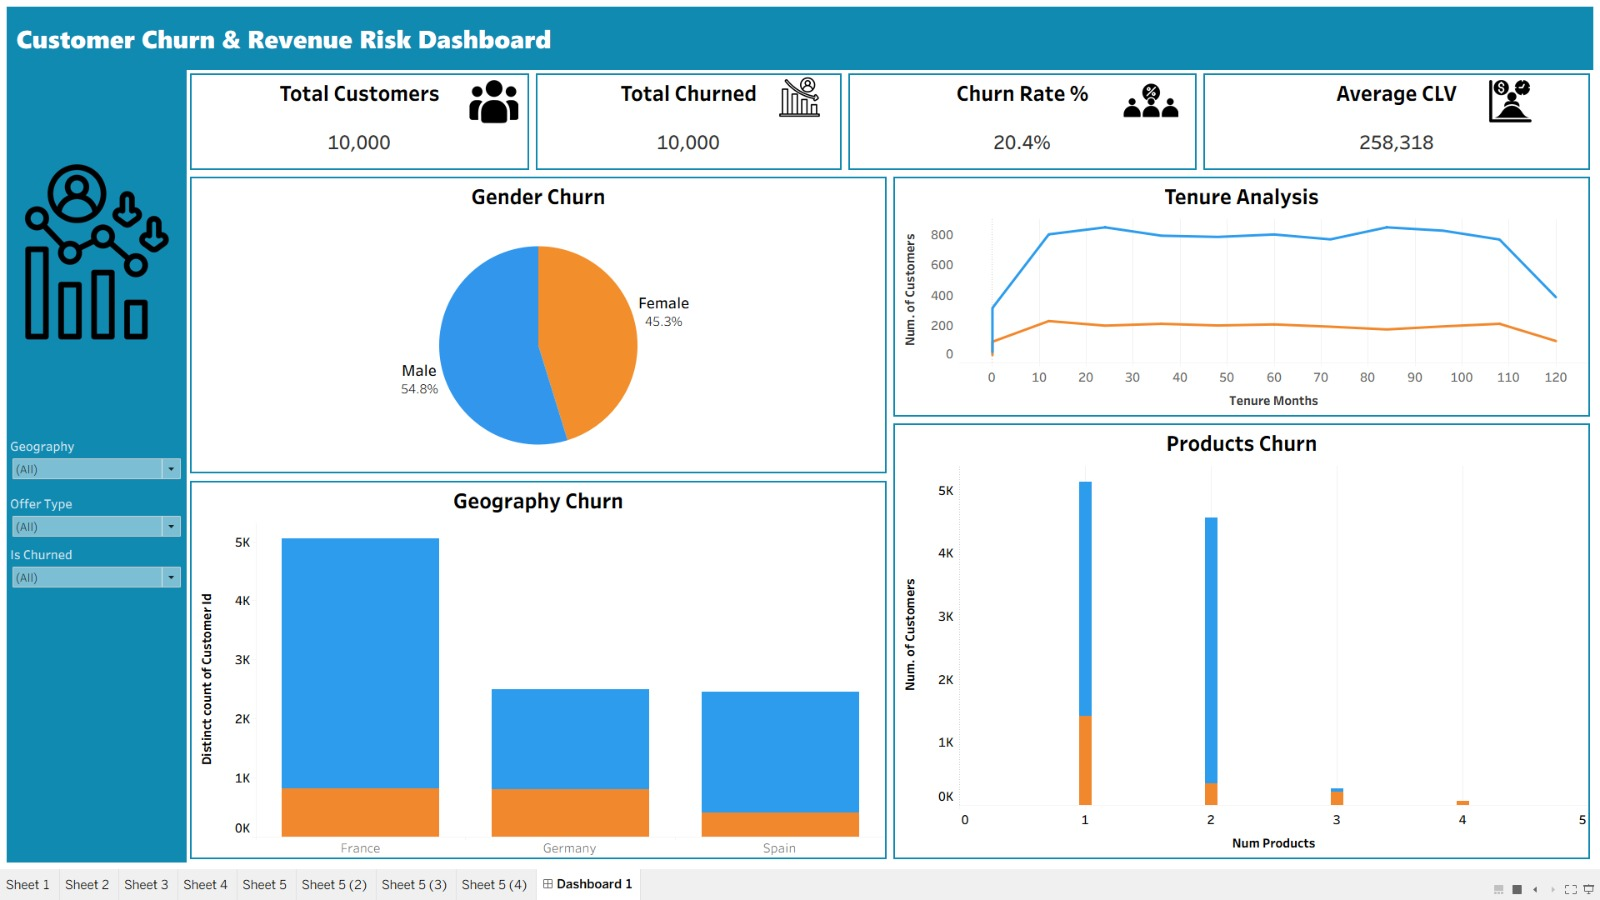

The dashboard page shown, as its layout file describes it:
{"tool":"tableau","page":{"name":"Dashboard 1","canvas":[1000,1000],"units":"permille","ordinal":0},"visuals":[{"type":"text","box":[4.8,9.4,990.4,72.8]},{"type":"image","param":"C:/Users/hp/Downloads/churn-rate.png","box":[4.8,82.2,112.2,417.2]},{"type":"worksheet","title":"Sheet 5","mark":"Automatic","box":[117,82.2,216.1,118.7]},{"type":"worksheet","title":"Sheet 5 (2)","mark":"Automatic","box":[333.1,82.2,194.9,118.7]},{"type":"worksheet","title":"Sheet 5 (3)","mark":"Automatic","box":[528,82.2,221.5,118.7]},{"type":"worksheet","title":"Sheet 5 (4)","mark":"Automatic","box":[749.5,82.2,245.7,118.7]},{"type":"image","param":"C:/Users/hp/Downloads/churn-rate (2).png","box":[701.9,83.4,36.8,63.5]},{"type":"image","param":"C:/Users/hp/Downloads/churn-rate (1).png","box":[486.4,87,38.6,48.2]},{"type":"image","param":"C:/Users/hp/Downloads/customer.png","box":[293.3,88.1,35,56.4]},{"type":"image","param":"C:/Users/hp/Downloads/values.png","box":[928.8,88.1,36.8,55.2]},{"type":"worksheet","title":"Sheet 2","mark":"Pie","box":[117,200.9,439.1,347.8]},{"type":"worksheet","title":"Sheet 4","mark":"Line","rows":["customer_id"],"cols":["tenure_months"],"box":[556.1,200.9,439.1,347.8]},{"type":"filter","title":"Sheet 4","param":"[federated.0cahl480tqlisr1bw4zbg1mwnz3y].[none:geography:nk]","box":[4.8,499.4,112.2,81.1]},{"type":"worksheet","title":"Sheet 1","mark":"Automatic","rows":["customer_id"],"cols":["geography"],"box":[117,548.8,439.1,441.9]},{"type":"worksheet","title":"Sheet 3","mark":"Bar","rows":["customer_id"],"cols":["num_products"],"box":[556.1,548.8,439.1,441.9]},{"type":"filter","title":"Sheet 4","param":"[federated.0cahl480tqlisr1bw4zbg1mwnz3y].[none:offer_type:nk]","box":[4.8,580.5,112.2,71.7]},{"type":"filter","title":"Sheet 2","param":"[federated.0cahl480tqlisr1bw4zbg1mwnz3y].[none:is_churned:nk]","box":[4.8,652.1,112.2,71.7]}]}

Visuals, with their boxes on the dashboard's canvas, which has no fixed pixel size, in thousandths of its width and height (x1, y1, x2, y2). These are canvas units, not pixel positions in the 1600x900 screenshot, which may show the page scaled, cropped or inside an application window:
text: pyautogui.locateOnScreen(5, 9, 995, 82)
image: pyautogui.locateOnScreen(5, 82, 117, 499)
"Sheet 5" worksheet: pyautogui.locateOnScreen(117, 82, 333, 201)
"Sheet 5 (2)" worksheet: pyautogui.locateOnScreen(333, 82, 528, 201)
"Sheet 5 (3)" worksheet: pyautogui.locateOnScreen(528, 82, 750, 201)
"Sheet 5 (4)" worksheet: pyautogui.locateOnScreen(750, 82, 995, 201)
image: pyautogui.locateOnScreen(702, 83, 739, 147)
image: pyautogui.locateOnScreen(486, 87, 525, 135)
image: pyautogui.locateOnScreen(293, 88, 328, 144)
image: pyautogui.locateOnScreen(929, 88, 966, 143)
"Sheet 2" worksheet (Pie marks): pyautogui.locateOnScreen(117, 201, 556, 549)
"Sheet 4" worksheet (Line marks): pyautogui.locateOnScreen(556, 201, 995, 549)
"Sheet 4" filter: pyautogui.locateOnScreen(5, 499, 117, 580)
"Sheet 1" worksheet: pyautogui.locateOnScreen(117, 549, 556, 991)
"Sheet 3" worksheet (Bar marks): pyautogui.locateOnScreen(556, 549, 995, 991)
"Sheet 4" filter: pyautogui.locateOnScreen(5, 580, 117, 652)
"Sheet 2" filter: pyautogui.locateOnScreen(5, 652, 117, 724)
